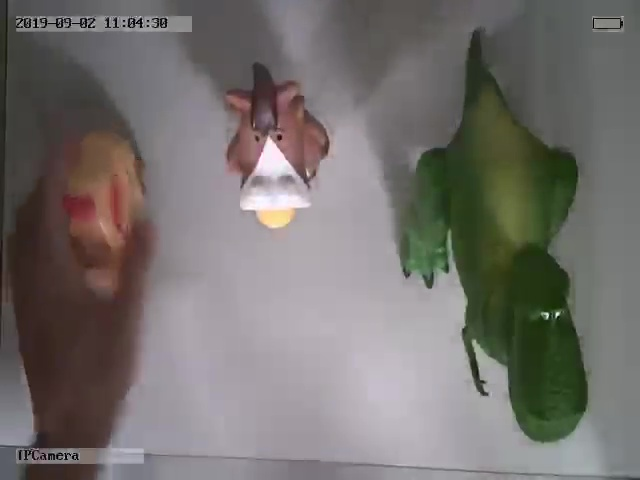horse: (220, 62, 330, 228)
rex: (401, 41, 588, 442)
